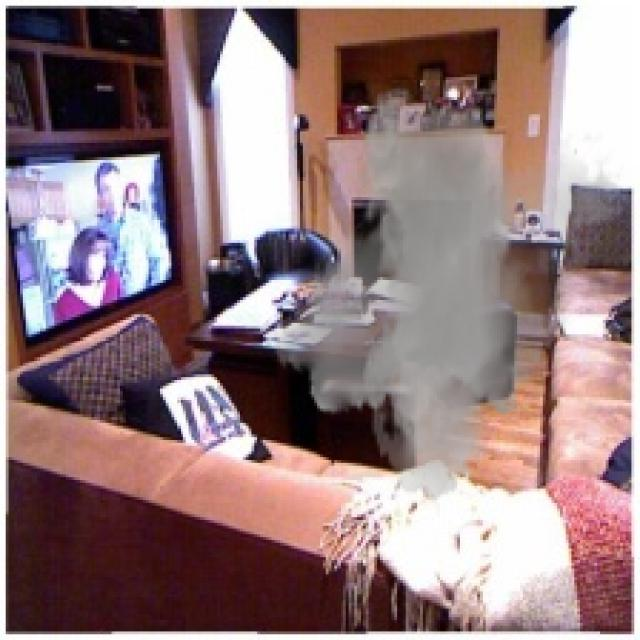smoke: (263, 86, 631, 500)
